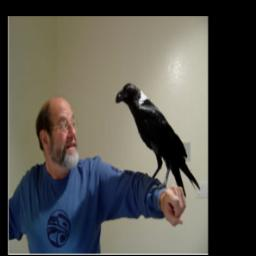Crow: (115, 78, 203, 197)
